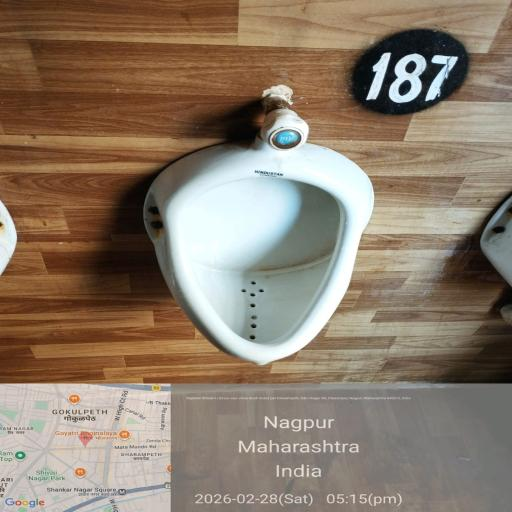clean_floor: (26, 30, 498, 133)
clean_urinal: (172, 170, 376, 362)
